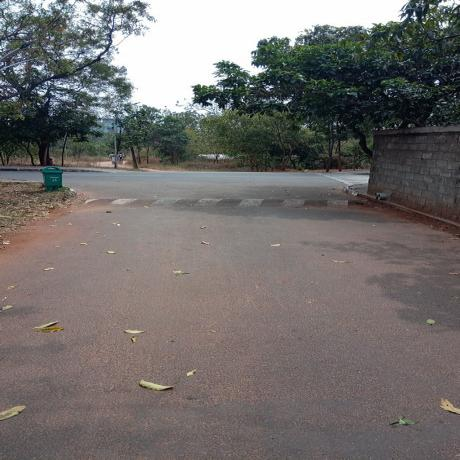Speed Bump: (62, 195, 374, 209)
